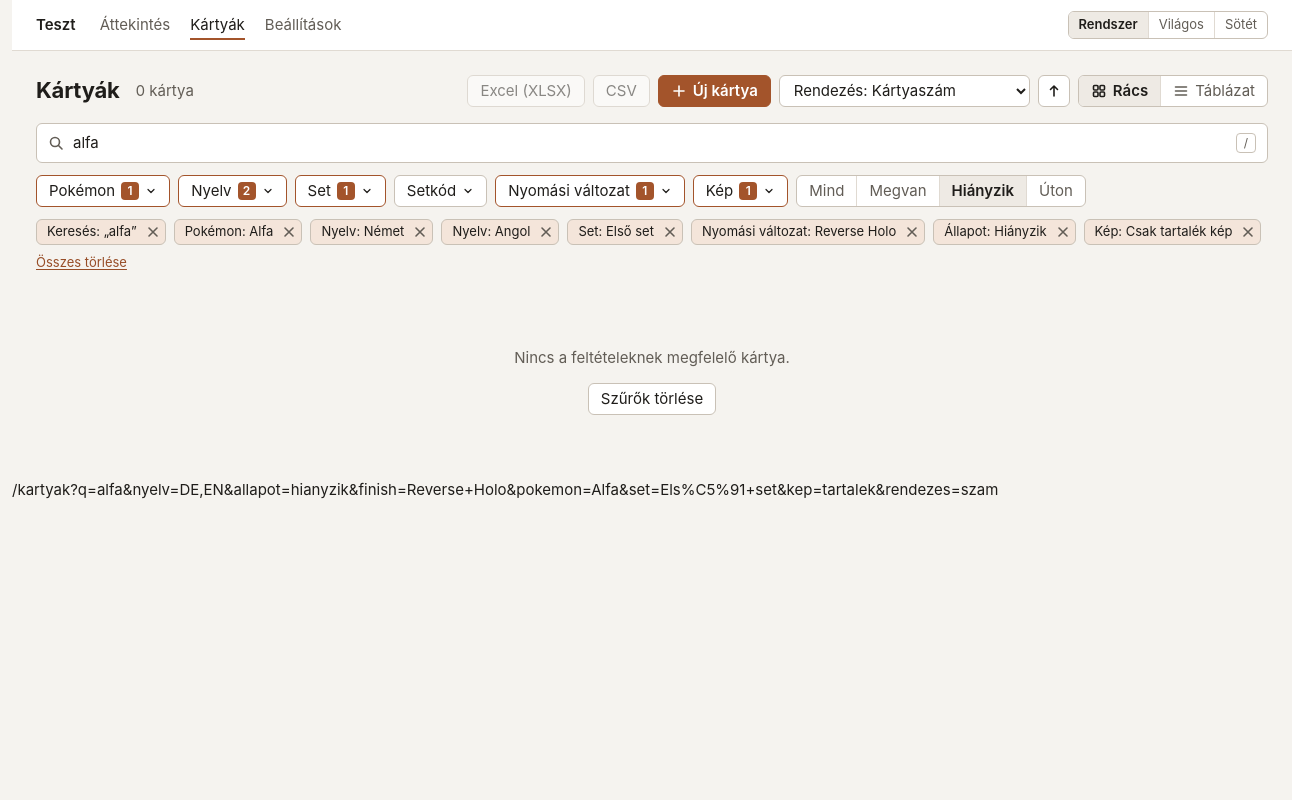
Test: keresés és szűrés (S-12 … S-16) › T-FLT-04 (S-14): címkék; az x egyet töröl, az "Összes törlése" mindent
Expected: the element with test id "empty-state" is shown, [514, 348, 790, 415]
Expected: the text "Keresés: „alfa”" is shown, [47, 222, 137, 241]
Click the button named "Szűrő törlése: Nyelv: Német". click: (420, 232)
box: [408, 220, 432, 244]
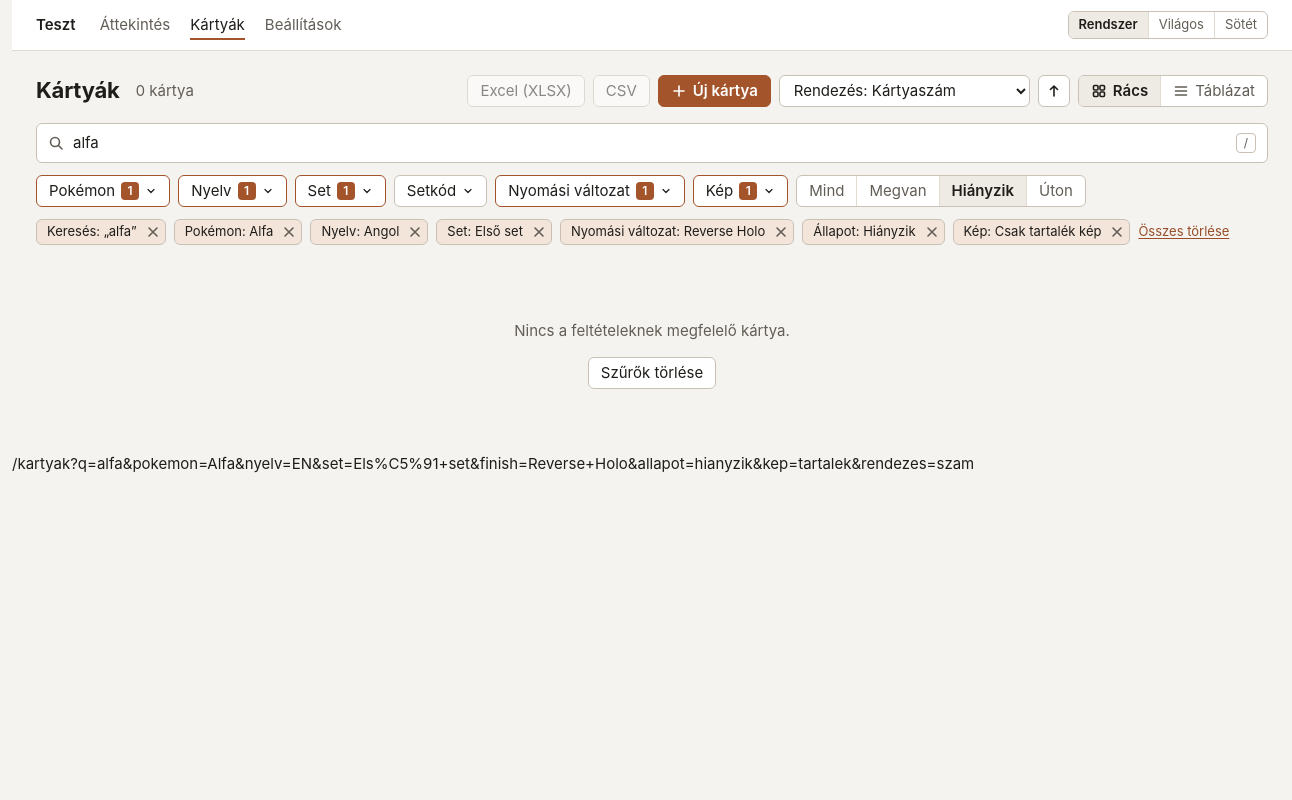
Expected: the element with test id "location" no longer shows "DE"
Expected: the text with test id "location" shows "nyelv=EN", [12, 454, 974, 472]
Click the button "Összes törlése". click: (1184, 232)
box: [1138, 222, 1229, 241]
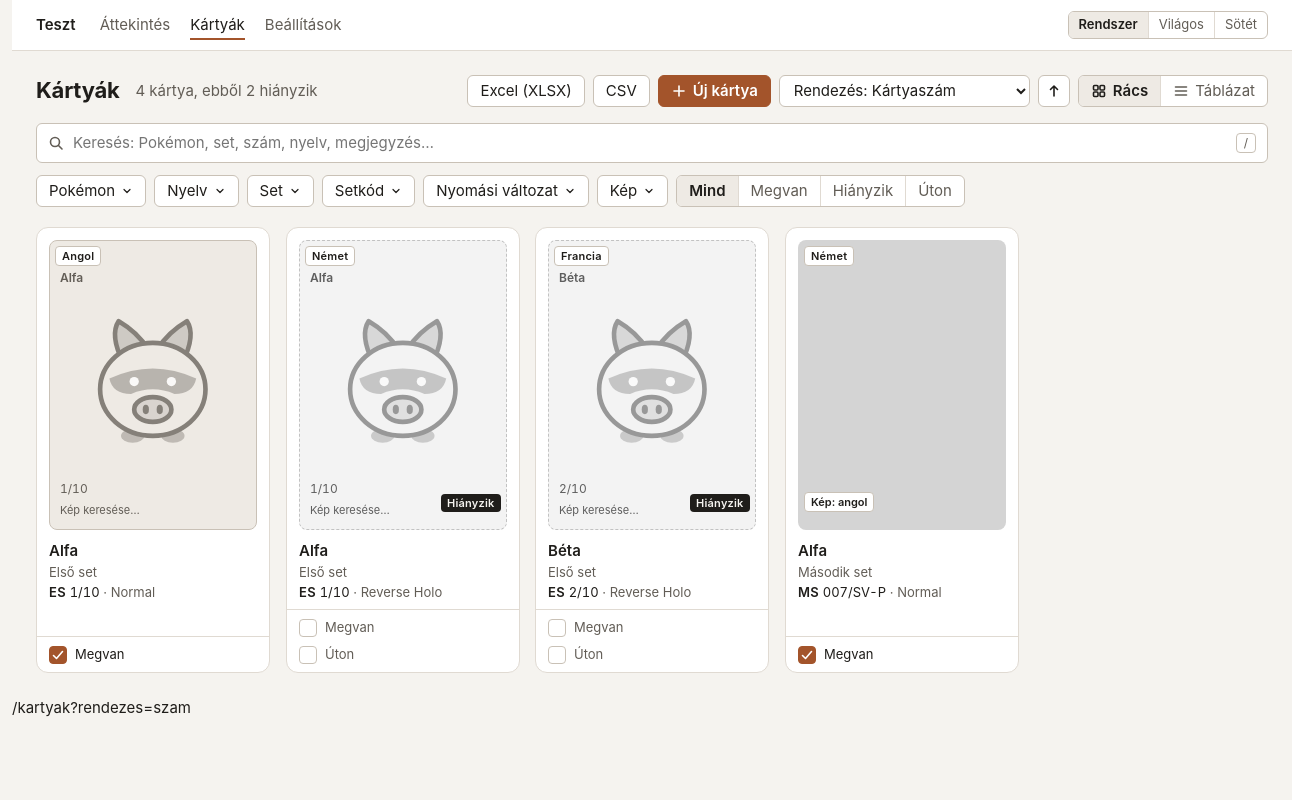
Expected: the text with test id "location" reads "/kartyak?rendezes=szam", [12, 698, 191, 717]
Expected: the search field labelled "Keresés" is empty, [36, 123, 1268, 163]
